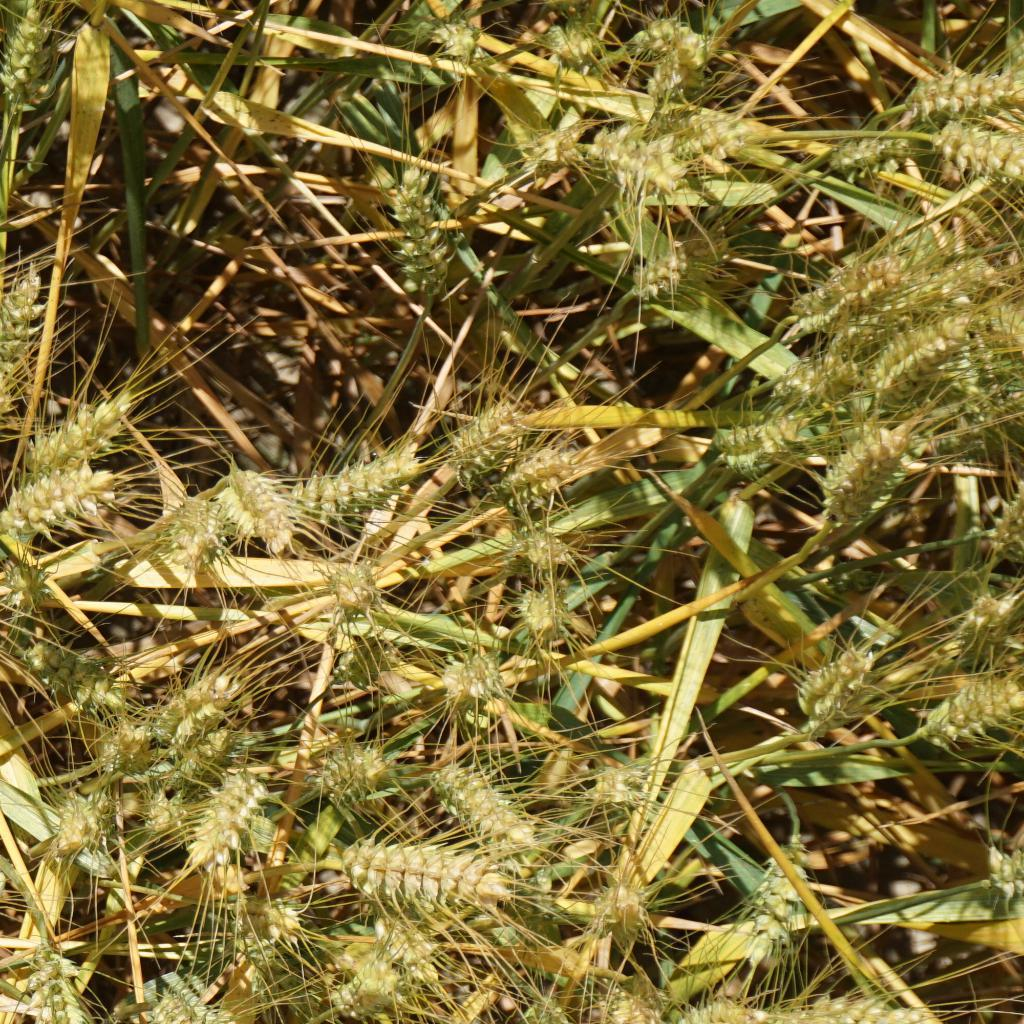0-0: (373, 157, 469, 303), (795, 433, 921, 529), (346, 844, 505, 913), (626, 222, 724, 313), (225, 448, 301, 563), (1, 453, 121, 525), (22, 630, 134, 707), (733, 844, 809, 953), (22, 387, 137, 459), (430, 753, 524, 841), (915, 676, 1024, 749), (289, 730, 393, 806), (223, 883, 312, 969), (792, 652, 873, 744), (774, 977, 927, 1024), (313, 444, 432, 504), (945, 578, 1024, 666), (0, 263, 54, 388), (772, 265, 894, 320), (432, 653, 524, 724), (0, 0, 55, 118), (916, 124, 1024, 184), (865, 302, 968, 364), (899, 64, 1024, 115), (155, 489, 224, 575), (581, 124, 664, 192), (641, 41, 715, 113), (156, 681, 251, 737), (583, 754, 661, 822), (448, 403, 526, 470), (166, 706, 225, 793), (498, 436, 585, 495), (204, 771, 257, 867), (28, 954, 99, 1024), (668, 97, 739, 165), (703, 414, 790, 468), (325, 620, 396, 686), (516, 584, 588, 649), (0, 546, 57, 626), (328, 951, 397, 1016), (956, 367, 1013, 444), (418, 10, 499, 63), (317, 557, 391, 615), (515, 120, 590, 177), (831, 120, 915, 169), (382, 912, 445, 977), (534, 12, 605, 69), (49, 787, 105, 859), (599, 881, 659, 948), (775, 334, 837, 398), (971, 481, 1024, 547), (573, 983, 656, 1024), (510, 526, 576, 576), (145, 992, 239, 1024), (678, 992, 772, 1024), (102, 715, 144, 774), (512, 982, 567, 1024), (983, 283, 1024, 338), (140, 787, 182, 837), (983, 852, 1024, 896), (0, 380, 13, 435)
